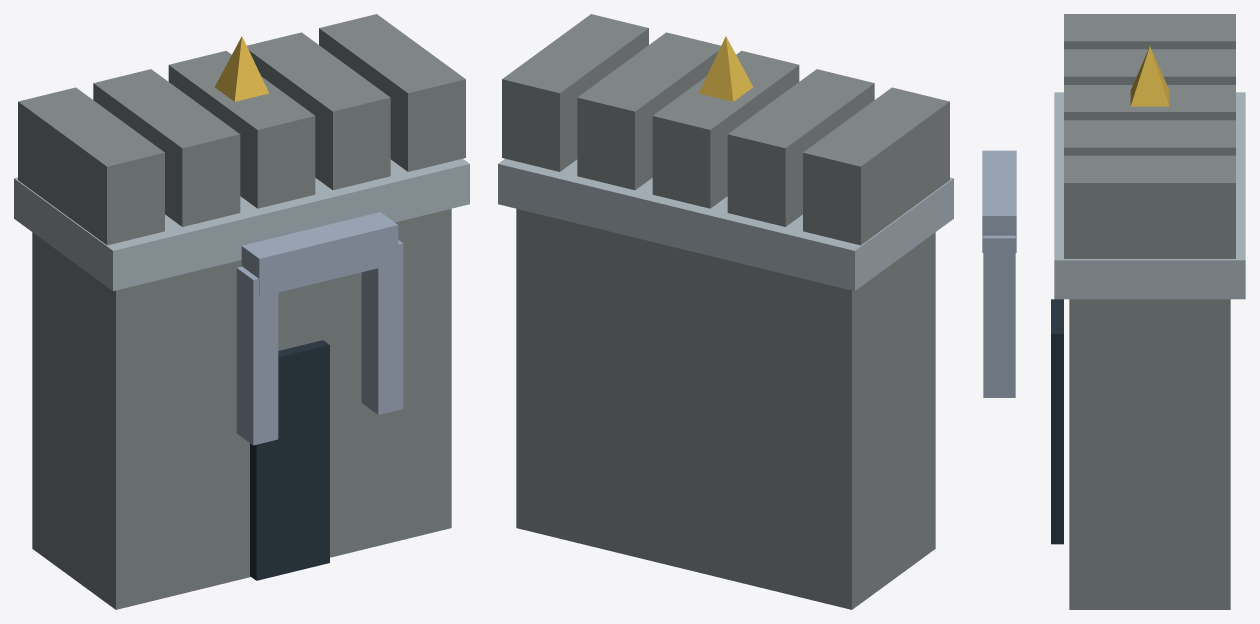
Rendered from defense.obj.
3 renders of one model, left to right at view 1: azimuth 30°, elevation 25°; view 2: azimuth 150°, elevation 25°; view 3: azimuth 270°, elevation 25°, orthographic. The views are drawn at different scales.
Parts seen in each view (by area): view 1: defense; view 2: defense; view 3: defense.
Part boxes in pixels (<box>): defense: <box>14,14,469,609</box>; defense: <box>498,14,953,609</box>; defense: <box>982,14,1245,609</box>.
Bounding box in the file's own units: 1.86 × 2.49 × 1.22.
